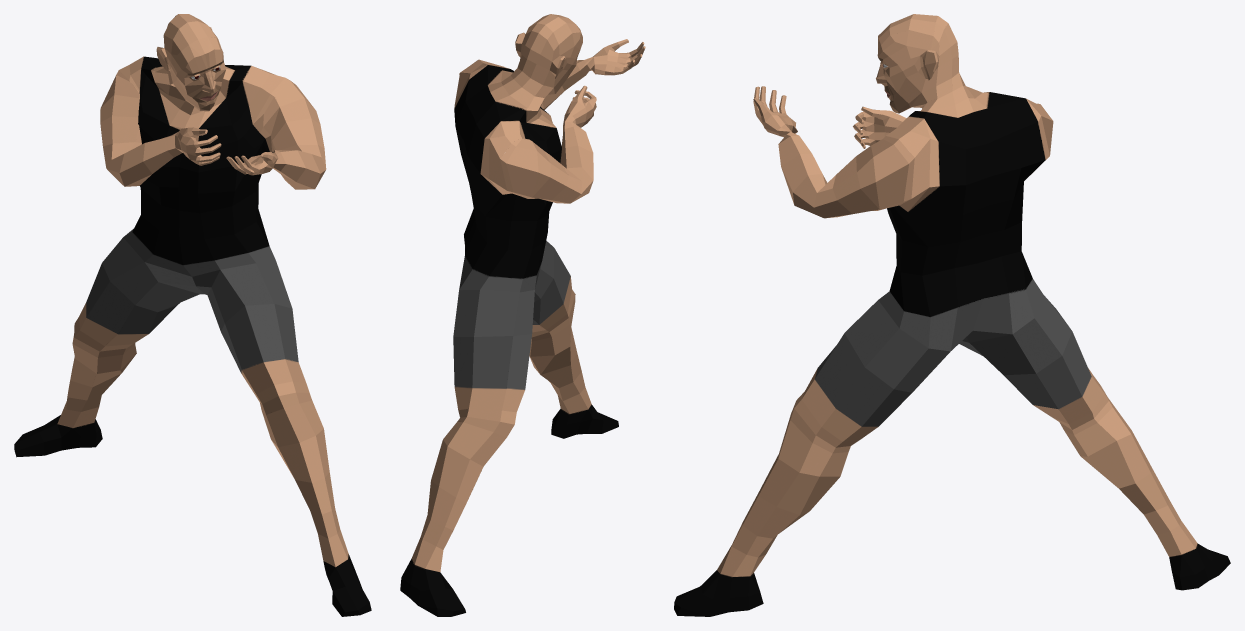
File: PlayerShoot(7).obj
3 views of the same model, side by side, from view 1: azimuth 30°, elevation 25°; view 2: azimuth 150°, elevation 25°; view 3: azimuth 270°, elevation 25° (orthographic). The views are drawn at different scales.
Parts seen in each view (by area): view 1: Plane002; view 2: Plane002; view 3: Plane002.
Boxes of the visible parts, bbox=[...] form: Plane002: bbox=[14, 14, 371, 616]; Plane002: bbox=[400, 14, 645, 616]; Plane002: bbox=[674, 14, 1230, 616].
Bounding box in the file's own units: 535 × 1640 × 1469.
